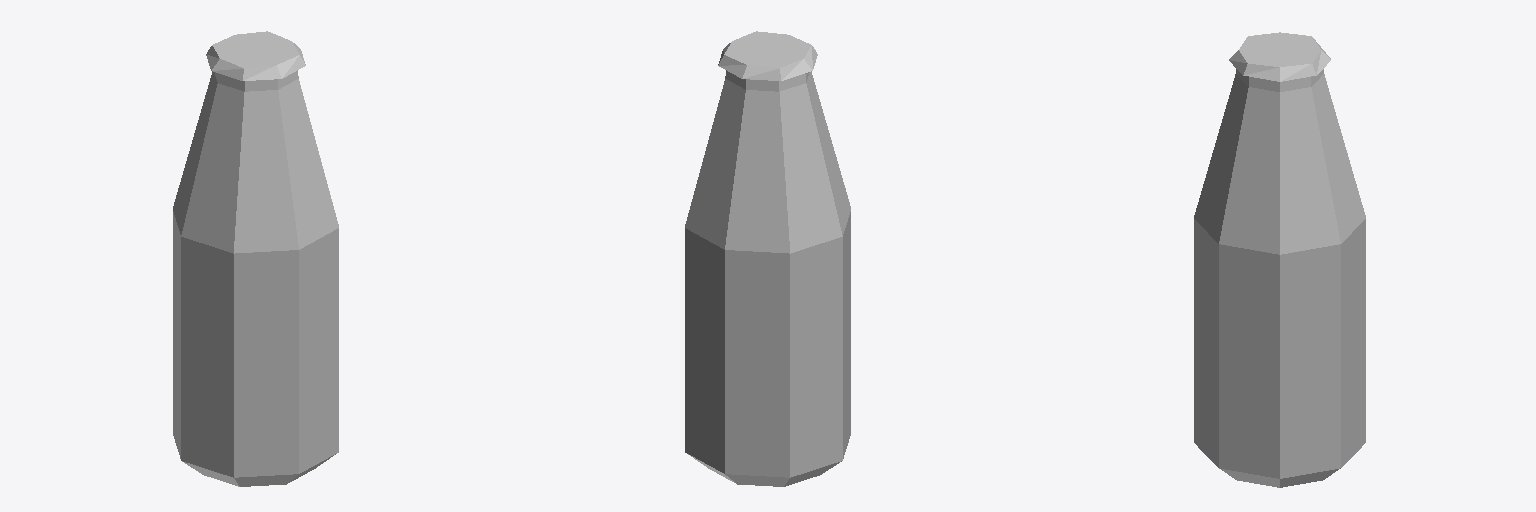
File: bottiglia.obj
3 renders of one model, left to right at view 1: azimuth 30°, elevation 25°; view 2: azimuth 150°, elevation 25°; view 3: azimuth 270°, elevation 25°, orthographic.
Visible parts, largest first — view 1: obj0; view 2: obj0; view 3: obj0.
Part boxes in pixels (left/top/right/bottom): obj0: left=173, top=31, right=338, bottom=486; obj0: left=685, top=31, right=850, bottom=486; obj0: left=1194, top=32, right=1365, bottom=487.
Bounding box in the file's own units: 0.4 × 1.05 × 0.4.